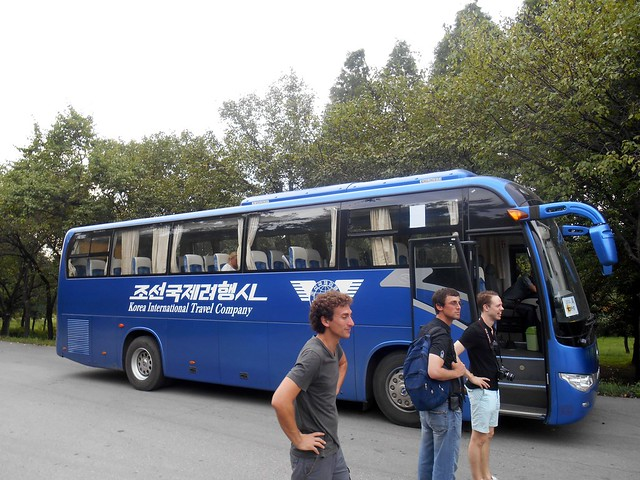bus: (57, 169, 619, 428)
